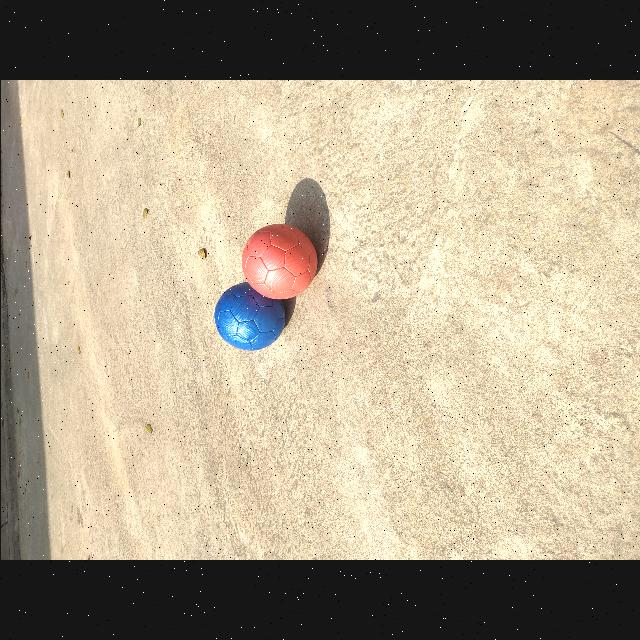B: (213, 282, 285, 351)
R: (241, 224, 317, 300)
